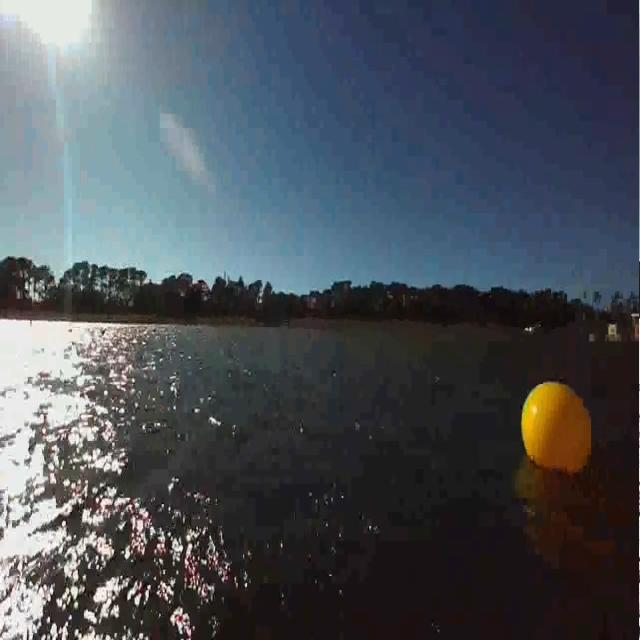yellow-buoy: (521, 379, 595, 475)
